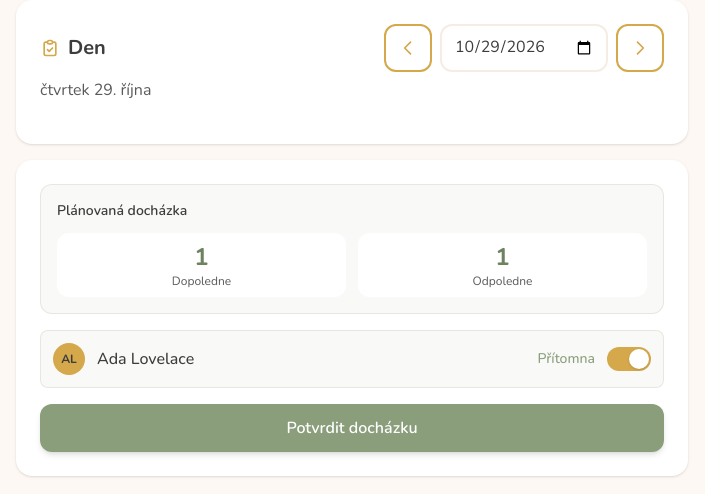
Test case: TeacherAttendancePage › does not mark another day saved when a pending save completes
Click the button "Potvrdit docházku" at (352, 428), box [40, 404, 664, 452]
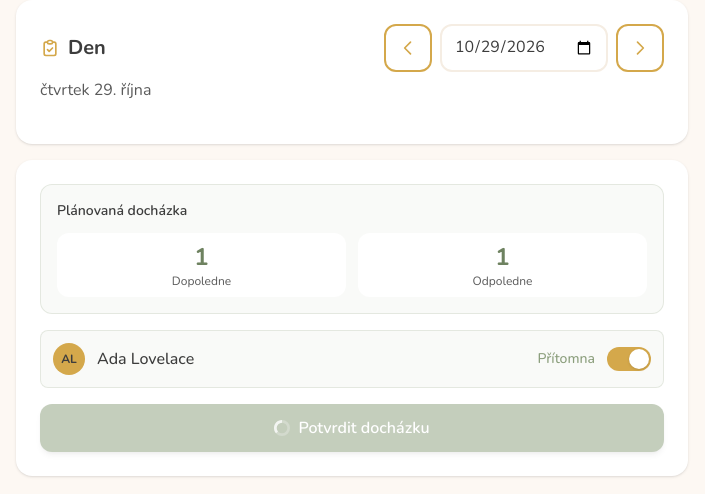
Click the button named "Předchozí den" at (408, 48), box [384, 24, 432, 72]
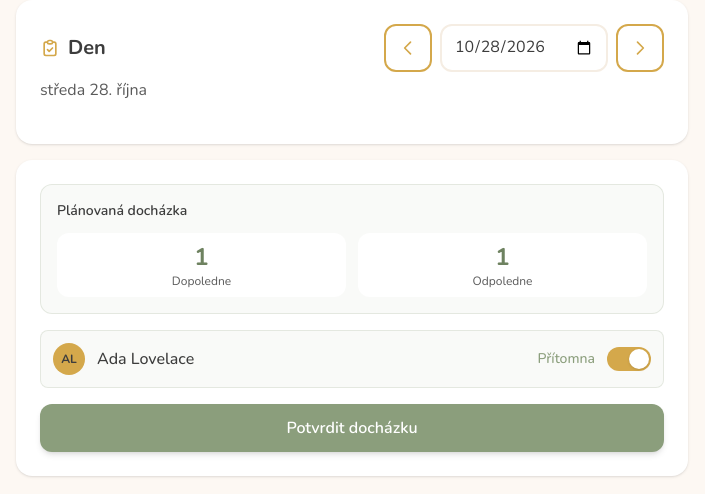
Expected: the checkbox is shown, [40, 330, 664, 388]
Now the button "Potvrdit docházku" is enabled, box [40, 404, 664, 452]
